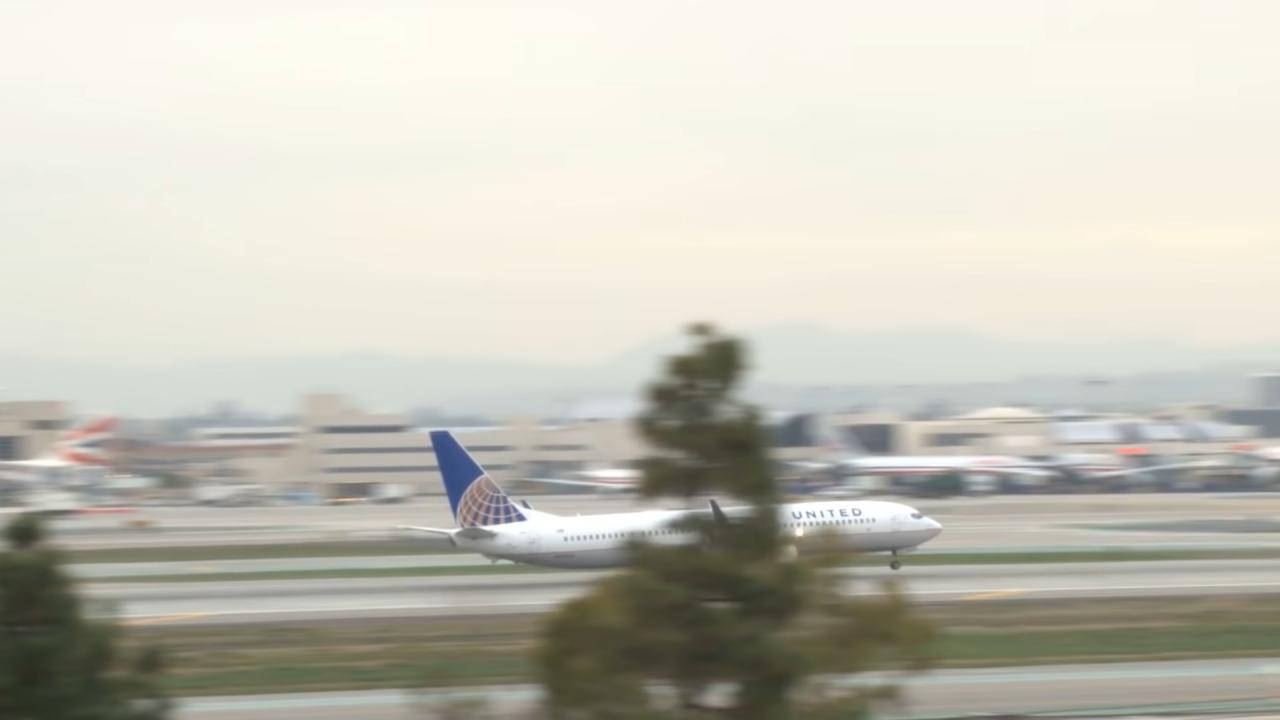Airplane: (385, 416, 966, 589)
